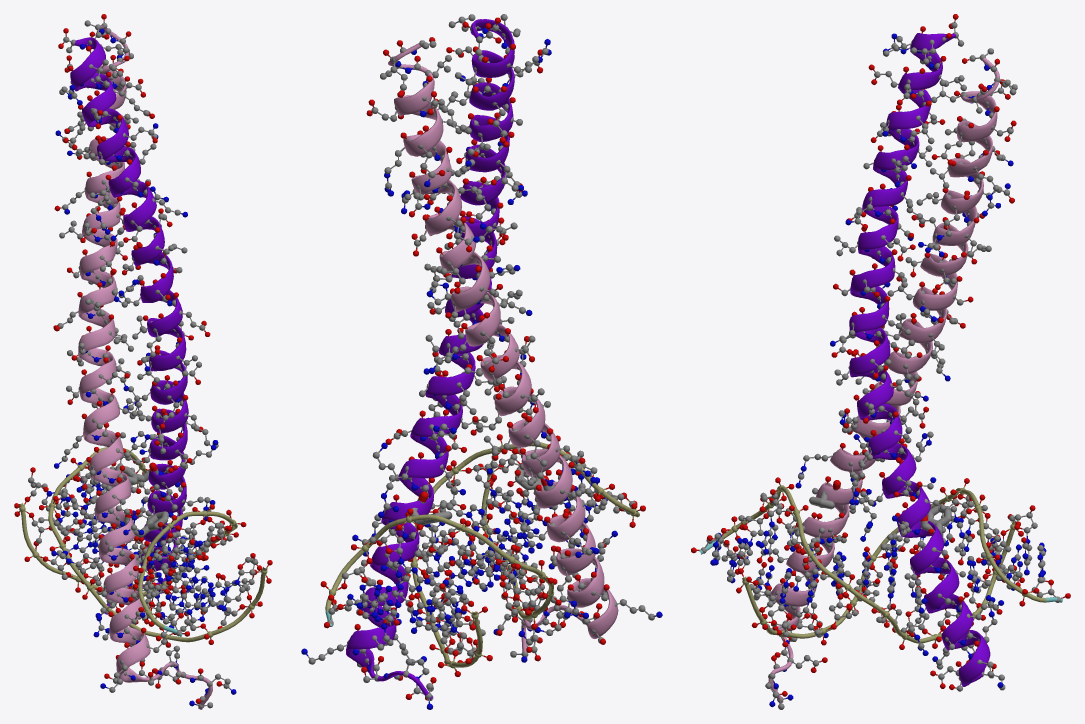
The model's file is dna-tube-cpk--protein-cartoon-cpk-PHE1.glb.
3 renders of one model, left to right at view 1: azimuth 30°, elevation 25°; view 2: azimuth 150°, elevation 25°; view 3: azimuth 270°, elevation 25°, orthographic. The views are drawn at different scales.
Parts seen in each view (by area): view 1: vmd_mol0_rep7, vmd_mol0_rep5, vmd_mol0_rep6, vmd_mol0_rep1, vmd_mol0_rep10; view 2: vmd_mol0_rep7, vmd_mol0_rep5, vmd_mol0_rep6, vmd_mol0_rep1, vmd_mol0_rep10; view 3: vmd_mol0_rep7, vmd_mol0_rep6, vmd_mol0_rep5, vmd_mol0_rep1, vmd_mol0_rep10.
Boxes of the visible parts, x1,y1,x2,y2 form: vmd_mol0_rep7: (14,14,272,708); vmd_mol0_rep5: (78,25,212,709); vmd_mol0_rep6: (70,37,188,614); vmd_mol0_rep1: (19,447,267,642); vmd_mol0_rep10: (115,462,168,537); vmd_mol0_rep7: (301,14,662,709); vmd_mol0_rep5: (388,43,618,657); vmd_mol0_rep6: (346,19,514,699); vmd_mol0_rep1: (325,442,639,667); vmd_mol0_rep10: (411,466,567,525); vmd_mol0_rep7: (691,14,1070,709); vmd_mol0_rep6: (849,33,990,686); vmd_mol0_rep5: (768,57,999,703); vmd_mol0_rep1: (699,486,1062,643); vmd_mol0_rep10: (809,480,951,535).
Size of the model in its own units: 0.6283 by 1.88 by 0.9767.
